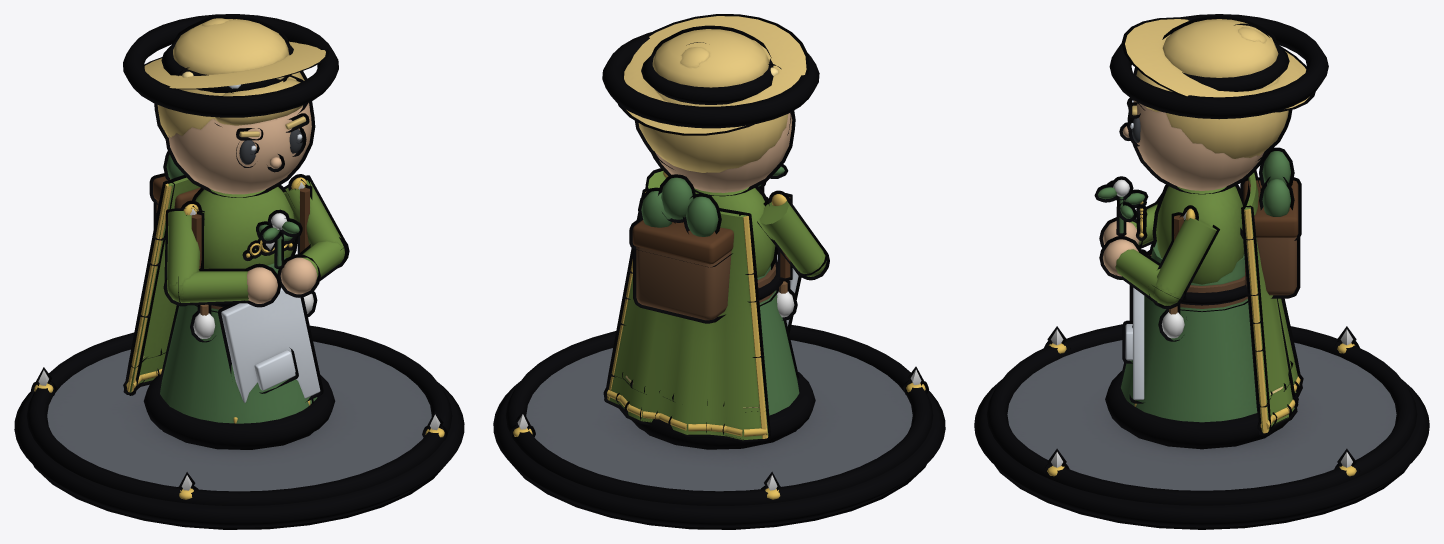
File: herbalist_s4.fbx
3 views of the same model, side by side, from view 1: azimuth 30°, elevation 25°; view 2: azimuth 150°, elevation 25°; view 3: azimuth 270°, elevation 25° (orthographic).
Visible parts, largest first — view 1: herbalist_s4; view 2: herbalist_s4; view 3: herbalist_s4.
Part boxes in pixels (x1=…): herbalist_s4: x1=14, y1=14, x2=464, y2=529; herbalist_s4: x1=493, y1=14, x2=945, y2=529; herbalist_s4: x1=974, y1=14, x2=1429, y2=529.
Bounding box in the file's own units: 1.58 × 1.58 × 1.58.
2 materials, 1 textured.
